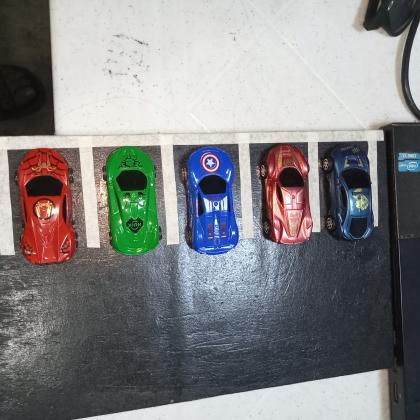Car: (13, 147, 80, 266), (102, 145, 162, 257), (184, 145, 240, 256), (260, 142, 314, 245), (324, 143, 376, 243)
